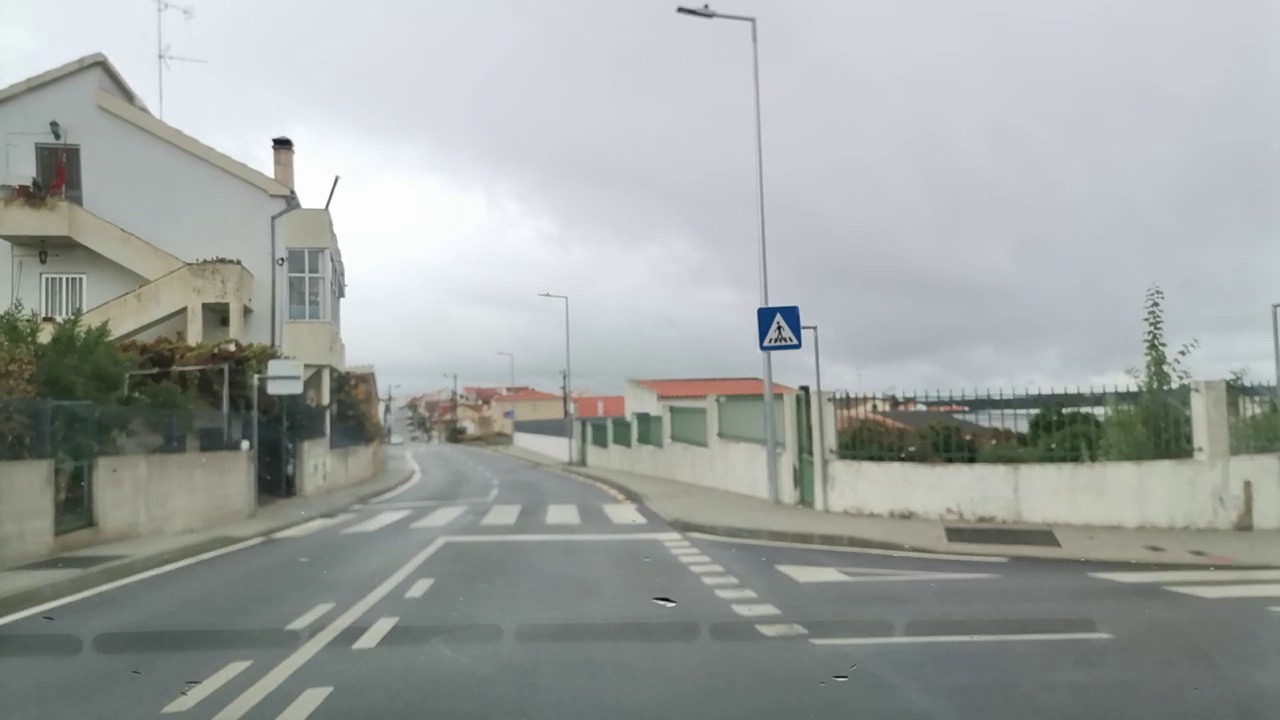Stairs: (274, 499, 649, 538)
